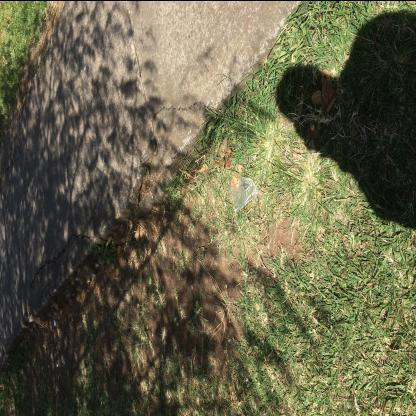plastik: (230, 176, 259, 214)
